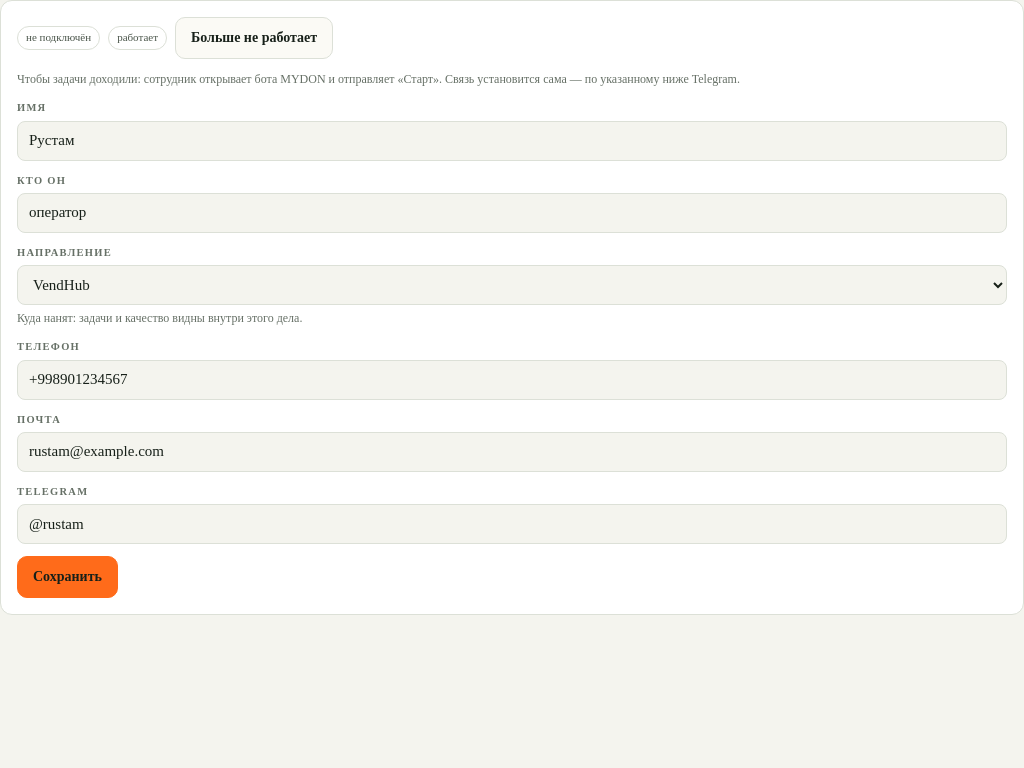
Test: формы сотрудников › сохраняет изменённые данные сотрудника при отказе API
The image size is (1024, 768).
Replace the text in the field labelled "Имя" with "Рустам Алиев" at (512, 141), box [17, 121, 1007, 161]
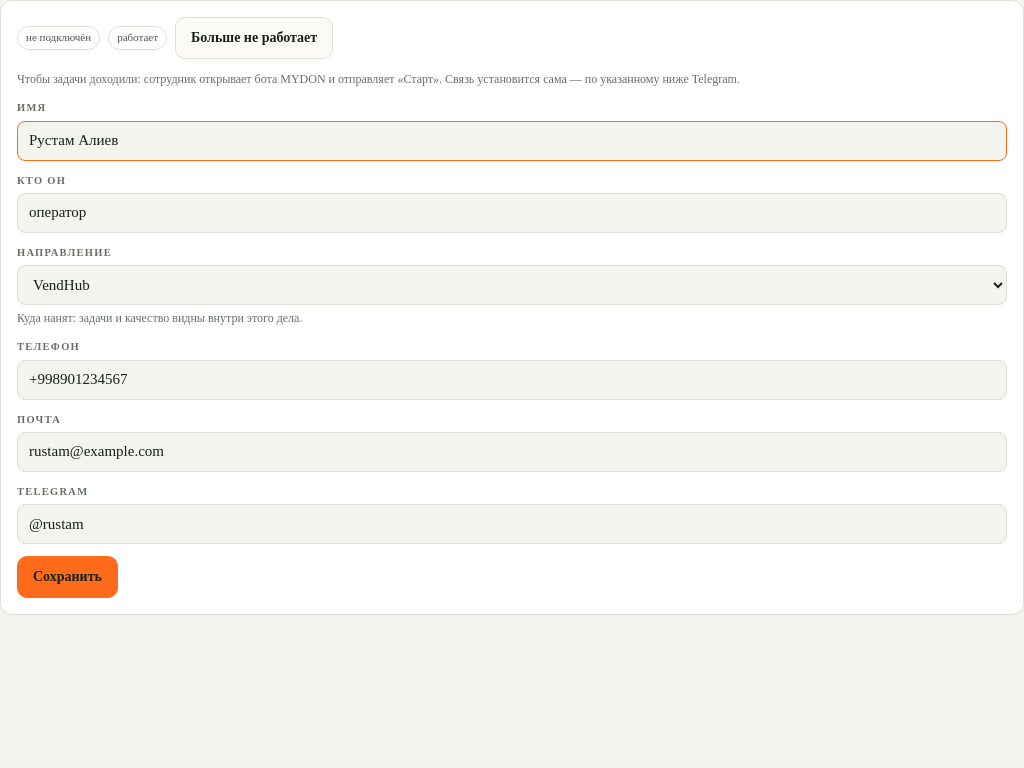
Click the button "Сохранить" at (68, 577), box [17, 556, 118, 598]
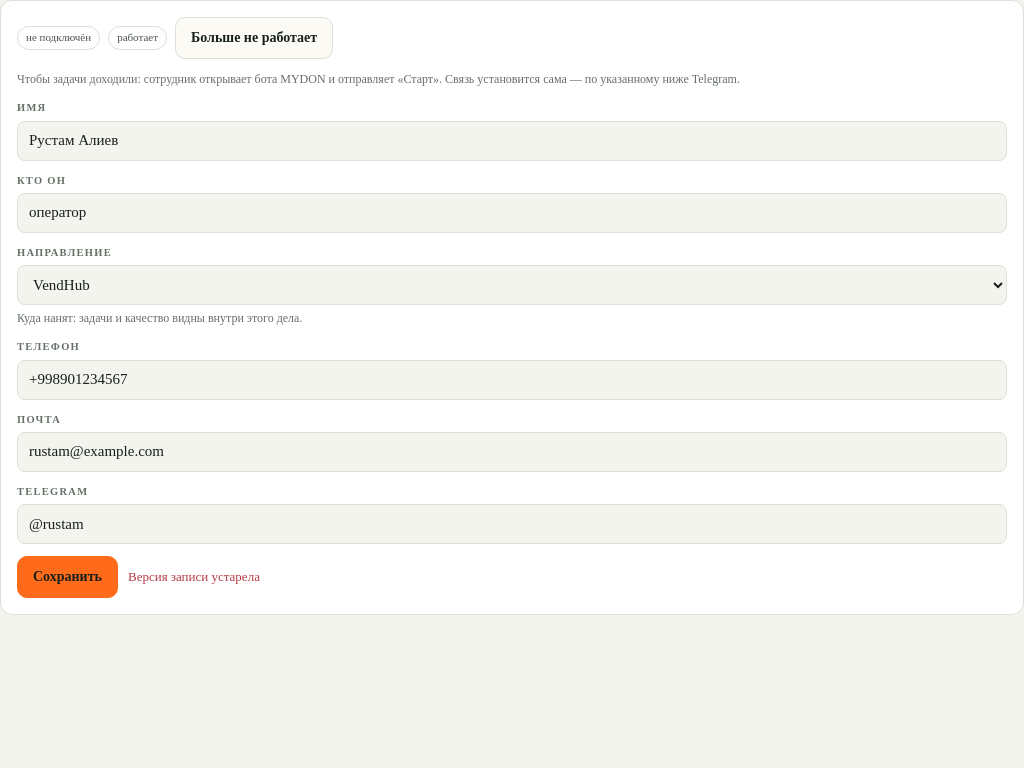
Expected: the text "Версия записи устарела" is shown, [128, 568, 260, 586]
